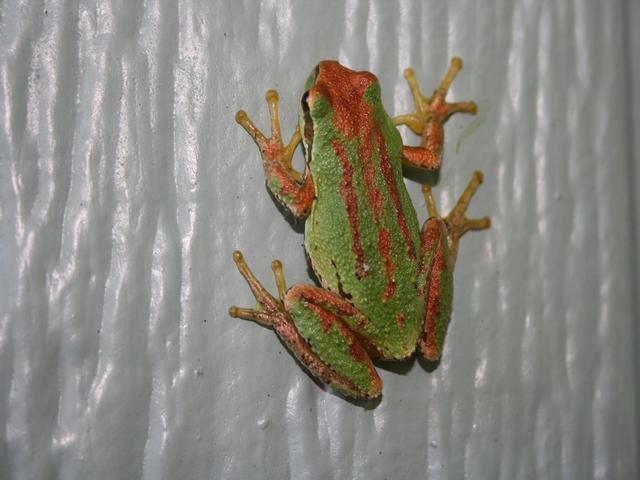frog: (187, 15, 519, 426)
